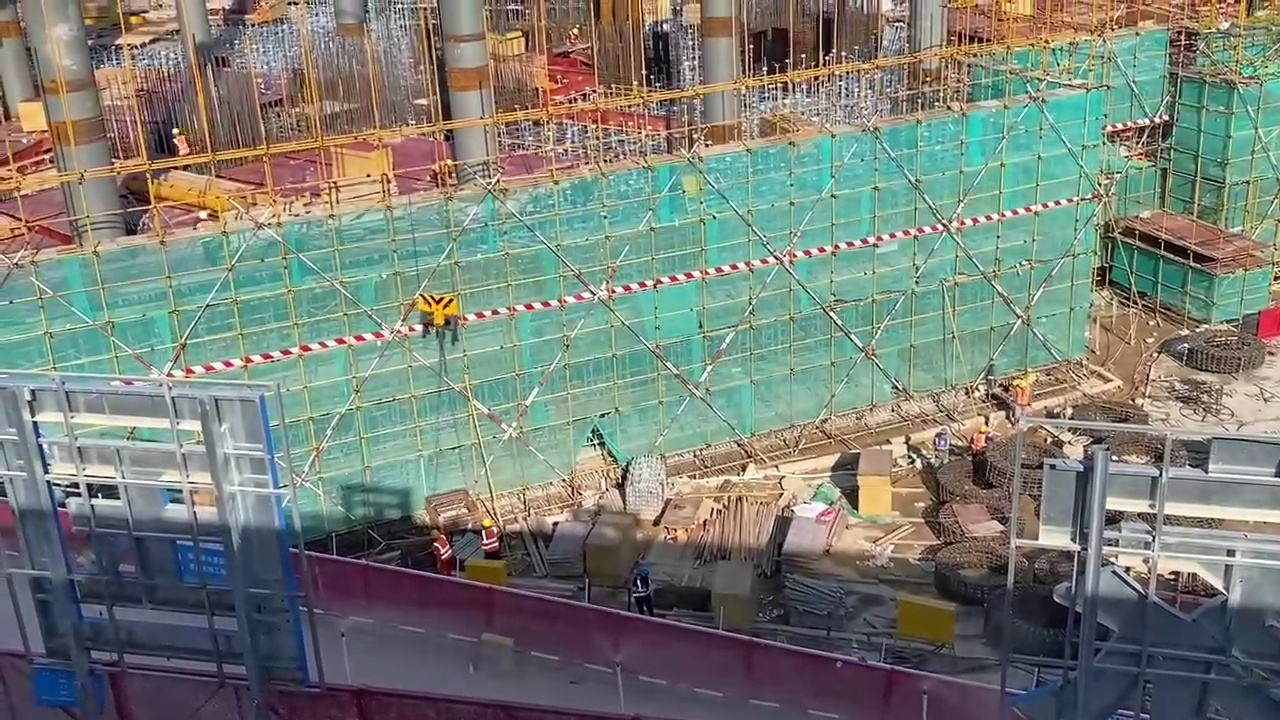board: (859, 449, 892, 516)
fence: (3, 654, 634, 720)
helmet: (481, 519, 491, 527)
hook: (413, 294, 465, 329)
person: (428, 528, 457, 575), (634, 567, 655, 620), (1009, 376, 1030, 428), (475, 517, 501, 558), (970, 424, 993, 455), (932, 421, 950, 457)
vest: (480, 526, 499, 550), (433, 539, 451, 562)
wood: (703, 492, 775, 568)
